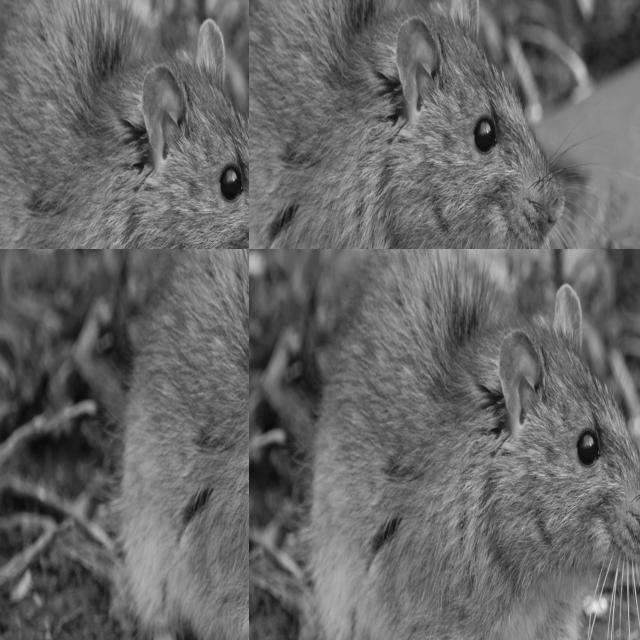rat: (318, 249, 640, 640), (0, 291, 79, 532)
